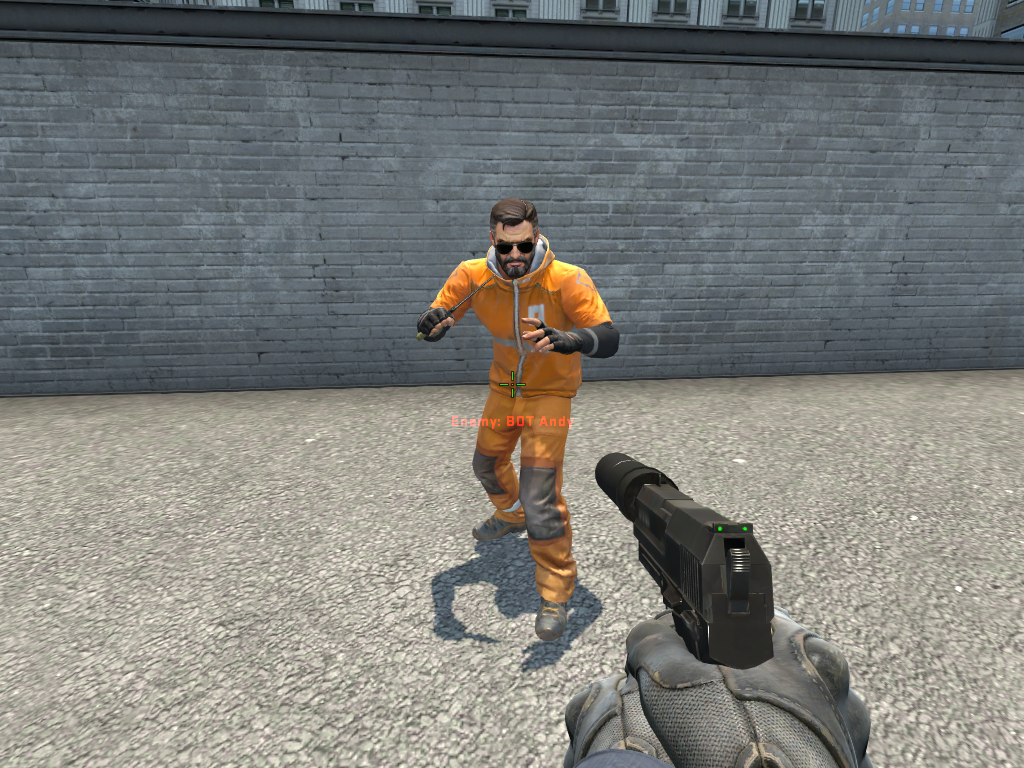tr head: (486, 196, 542, 282)
